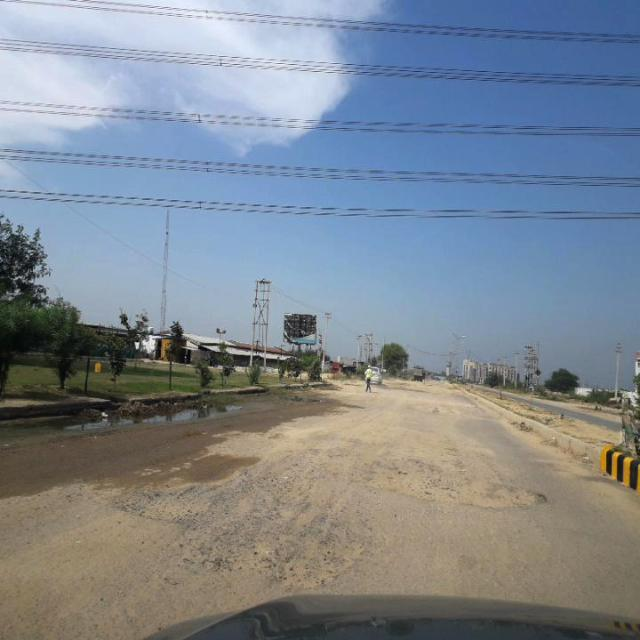pothole: (81, 410, 553, 584)
